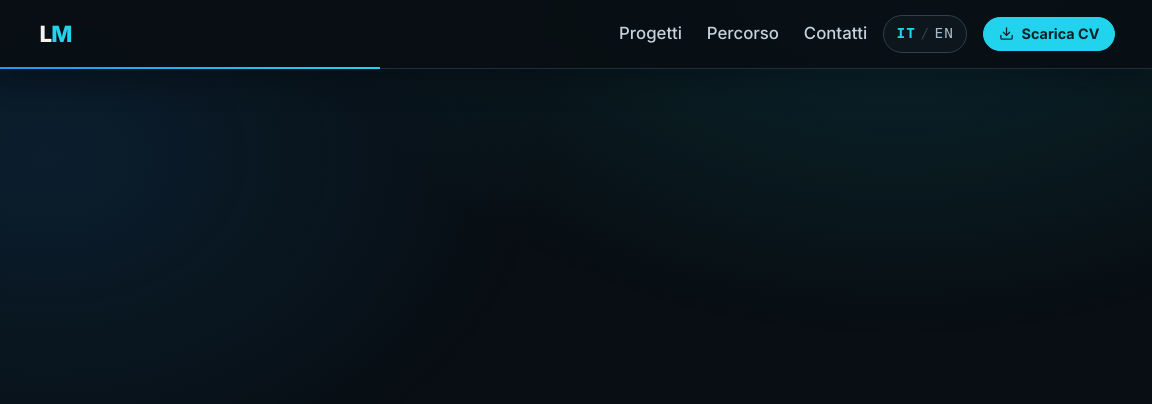
Test: selettore di lingua › parte in italiano e passa all’inglese
Expected: the link "Progetti" is shown, [619, 17, 682, 49]
Click the button with aria-label "passa all’inglese". click: (925, 34)
box: [883, 15, 967, 53]
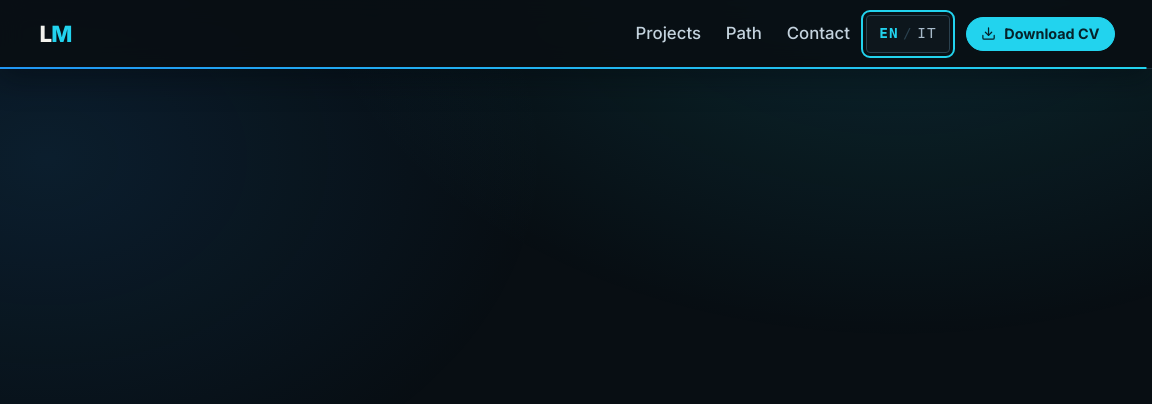
Expected: the link "Projects" is shown, [636, 17, 701, 49]
